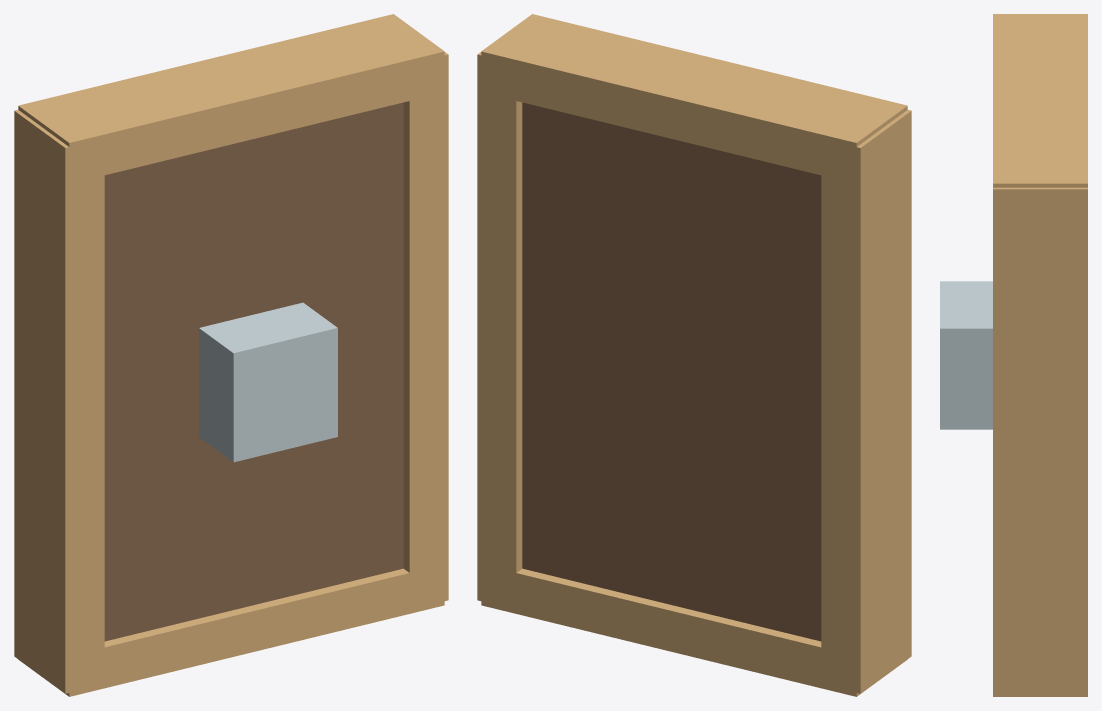
The picture shows the model from 3 angles, left to right: view 1: azimuth 30°, elevation 25°; view 2: azimuth 150°, elevation 25°; view 3: azimuth 270°, elevation 25°; orthographic projection. The views are drawn at different scales.
Parts seen in each view (by area): view 1: shield, rim_left, rim_top, rim_right, boss, rim_bottom; view 2: shield, rim_left, rim_top, rim_right, rim_bottom; view 3: rim_right, rim_top, boss.
Boxes of the visible parts, left/top/right/bottom form: shield: left=104, top=102, right=403, bottom=641; rim_left: left=14, top=110, right=104, bottom=693; rim_top: left=18, top=14, right=444, bottom=183; rim_right: left=403, top=52, right=448, bottom=608; boss: left=199, top=302, right=337, bottom=462; rim_bottom: left=18, top=565, right=444, bottom=696; shield: left=522, top=102, right=821, bottom=641; rim_left: left=821, top=110, right=911, bottom=693; rim_top: left=481, top=14, right=907, bottom=183; rim_right: left=477, top=52, right=522, bottom=604; rim_bottom: left=481, top=565, right=907, bottom=696; rim_right: left=993, top=187, right=1087, bottom=694; rim_top: left=993, top=14, right=1087, bottom=187; boss: left=940, top=281, right=992, bottom=429.
Bounding box in the file's own units: 0.735 × 1.02 × 0.265.
